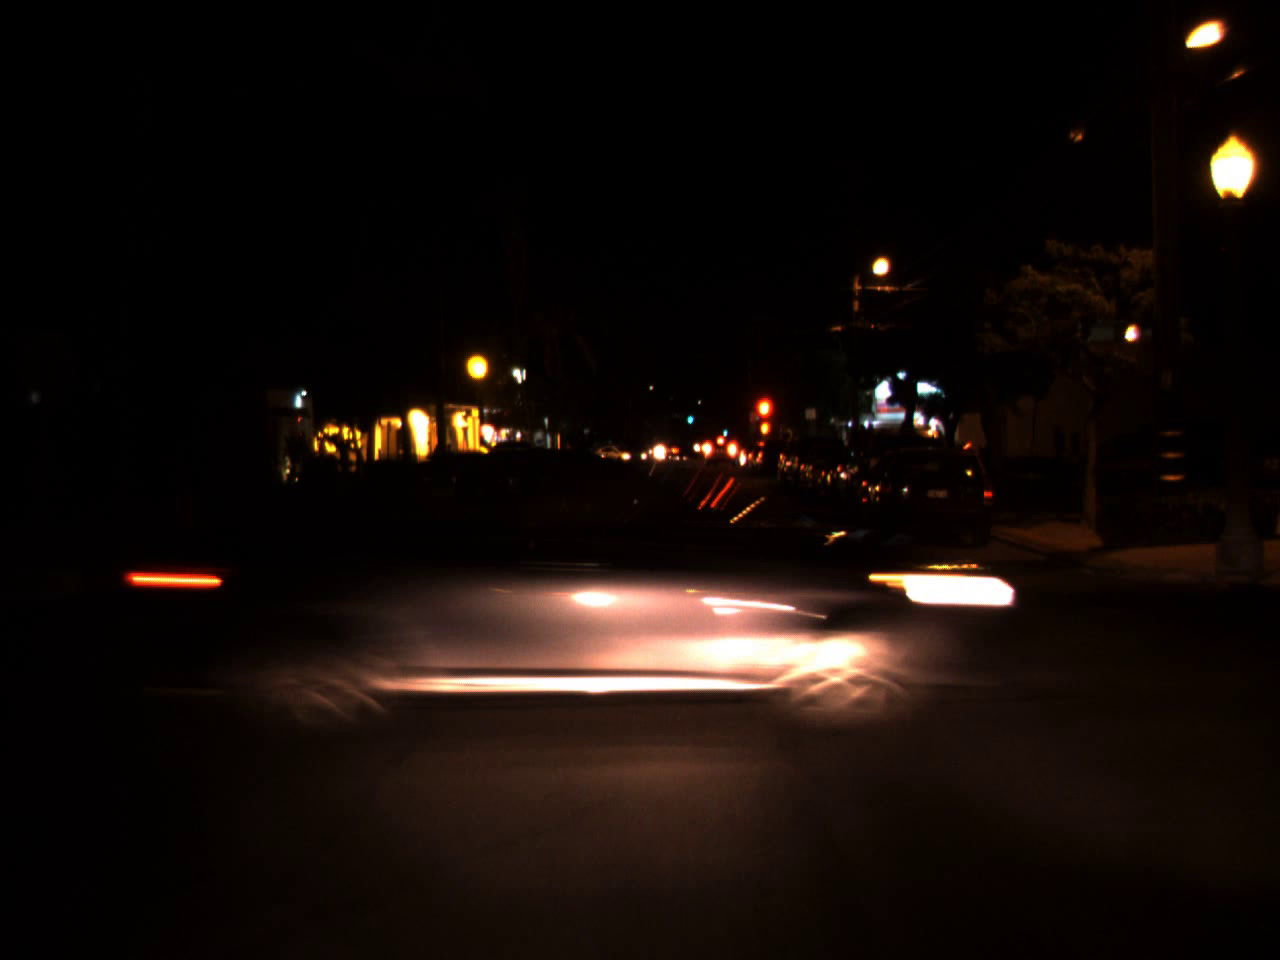go: (685, 407, 694, 425), (721, 424, 728, 436)
stop: (752, 393, 776, 447)
